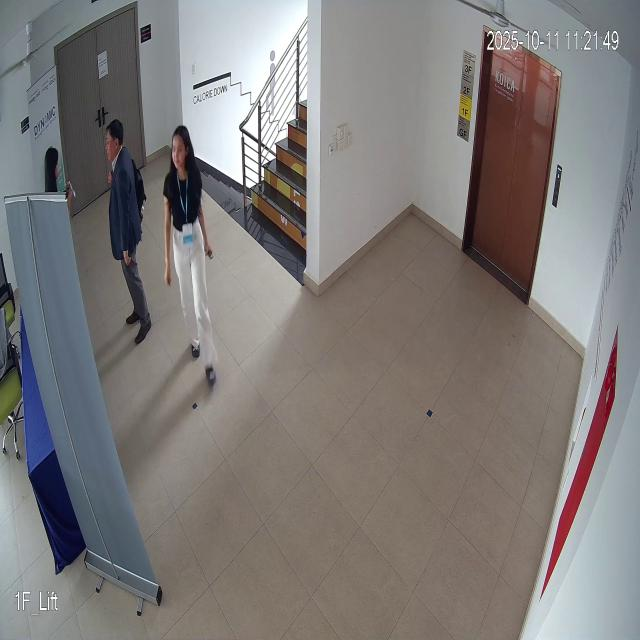face: (164, 118, 202, 176)
